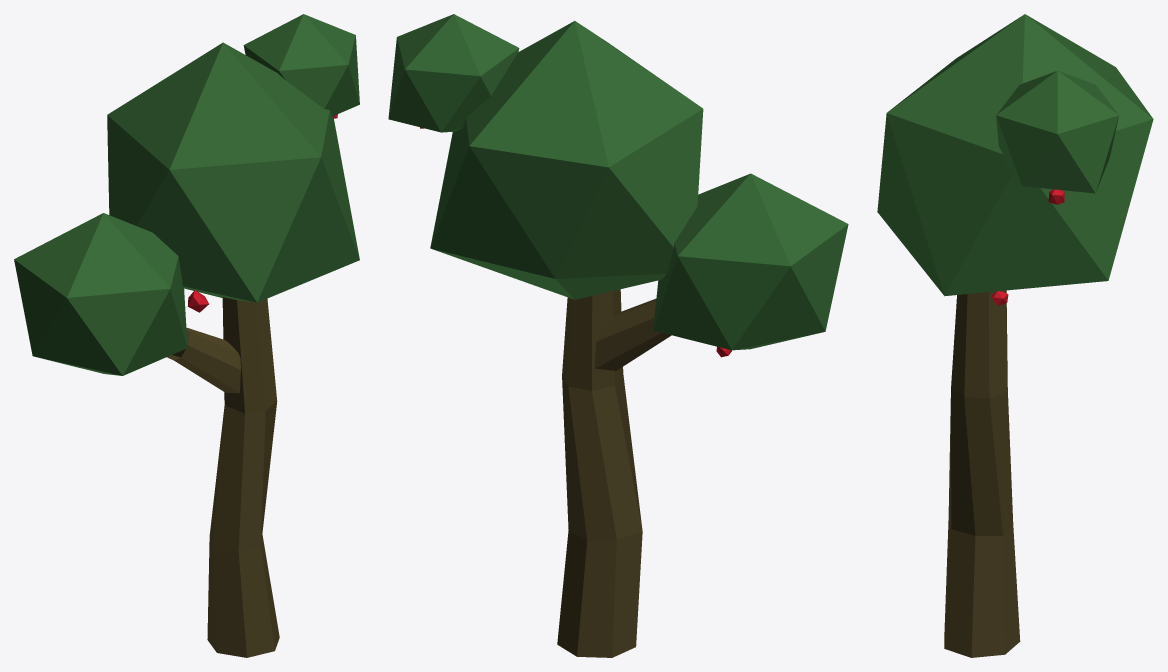
The model's file is Tree2.fbx.
3 renders of one model, left to right at view 1: azimuth 30°, elevation 25°; view 2: azimuth 150°, elevation 25°; view 3: azimuth 270°, elevation 25°, orthographic. The views are drawn at different scales.
Visible parts, largest first — view 1: Cylinder.001, Cylinder.002; view 2: Cylinder.001, Cylinder.002; view 3: Cylinder.001, Cylinder.002, Cylinder.
Part boxes in pixels (x1,y1,x2,y2): Cylinder.001: [14, 14, 359, 375]; Cylinder.002: [167, 297, 279, 657]; Cylinder.001: [388, 14, 848, 350]; Cylinder.002: [557, 289, 671, 657]; Cylinder.001: [877, 14, 1153, 296]; Cylinder.002: [944, 290, 1020, 657]; Cylinder: [991, 189, 1064, 305].
Size of the model in its own units: 1112 by 1735 by 692.
